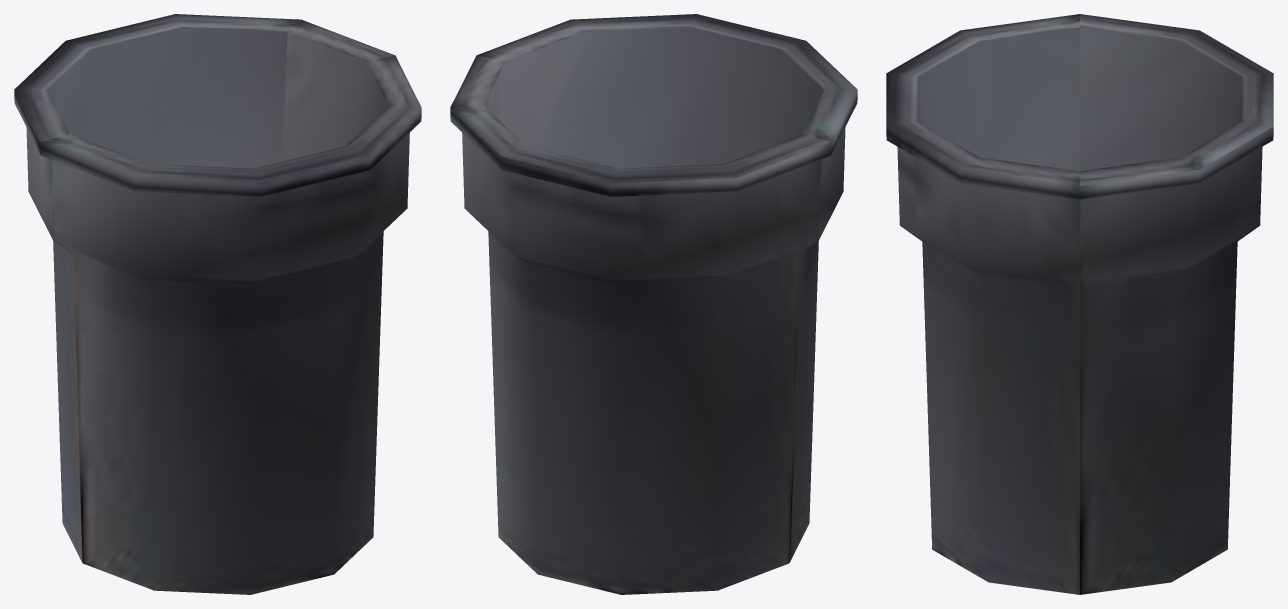
Rendered from janitor_bin.FBX.
3 views of the same model, side by side, from view 1: azimuth 30°, elevation 25°; view 2: azimuth 150°, elevation 25°; view 3: azimuth 270°, elevation 25° (orthographic).
Visible parts, largest first — view 1: janitor_bin; view 2: janitor_bin; view 3: janitor_bin.
Boxes of the visible parts, x1,y1,x2,y2 form: janitor_bin: (14,14,421,594); janitor_bin: (450,14,857,594); janitor_bin: (886,14,1273,594).
Bounding box in the file's own units: 56.67 × 65.98 × 53.89.
